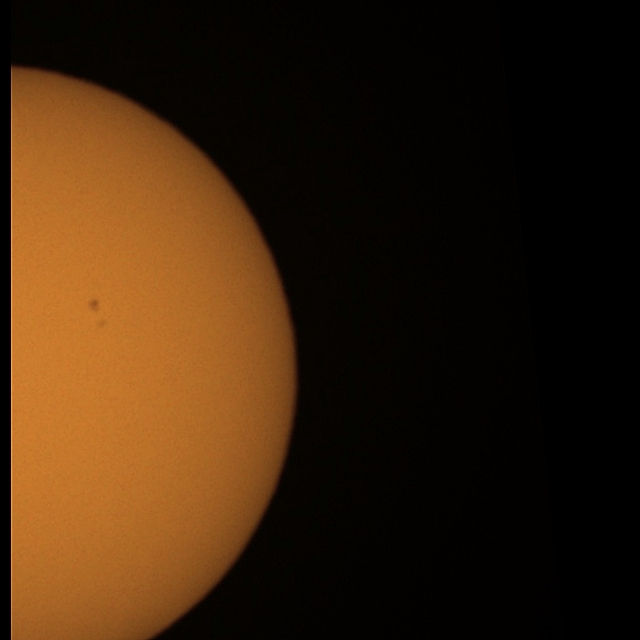sunspot: (87, 297, 102, 314)
